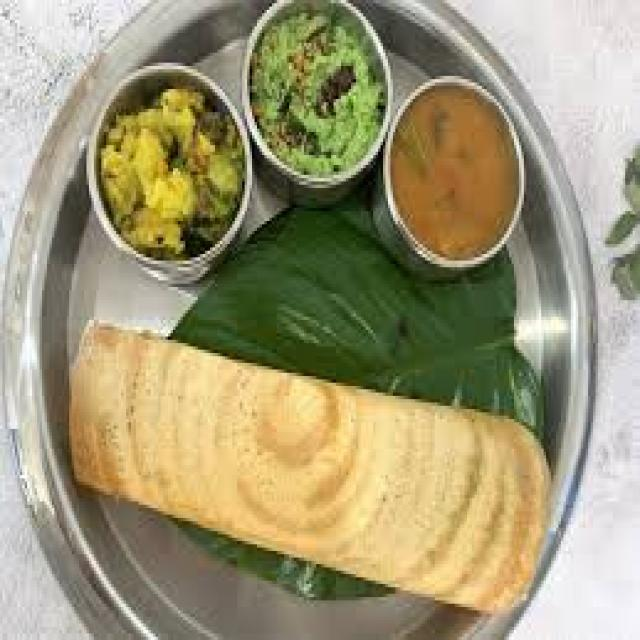DOSA: (71, 323, 550, 617)
